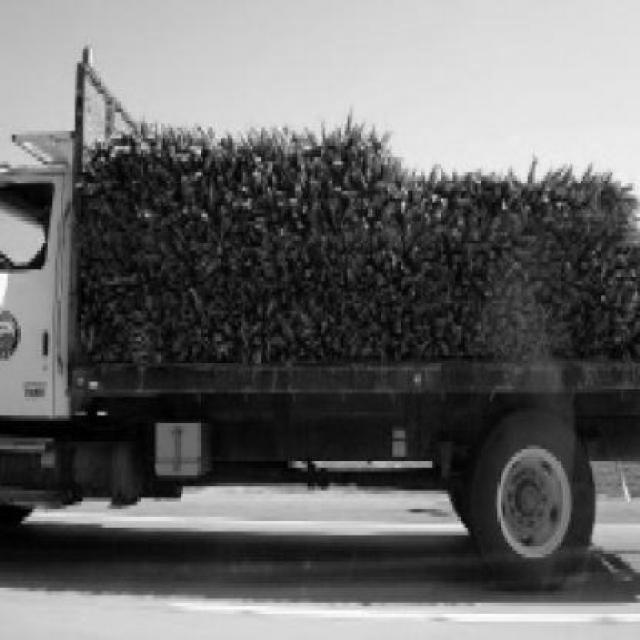Box Truck: (0, 47, 640, 593)
